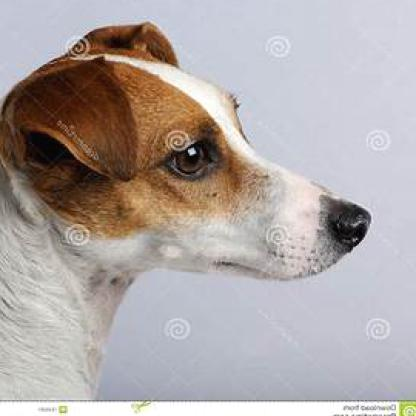dog: (1, 22, 373, 403)
